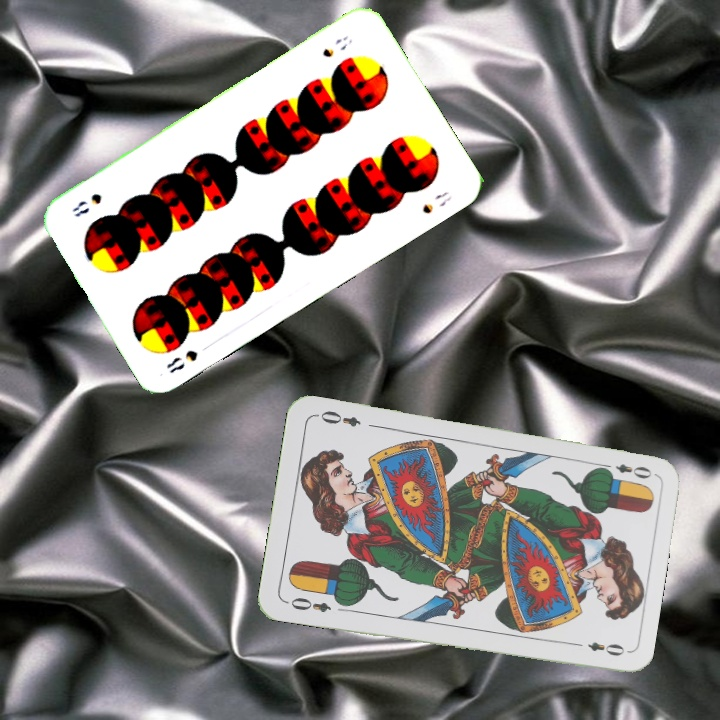EO: (597, 459, 655, 481), (282, 593, 334, 616)
S8: (162, 346, 201, 376), (318, 32, 355, 60)
